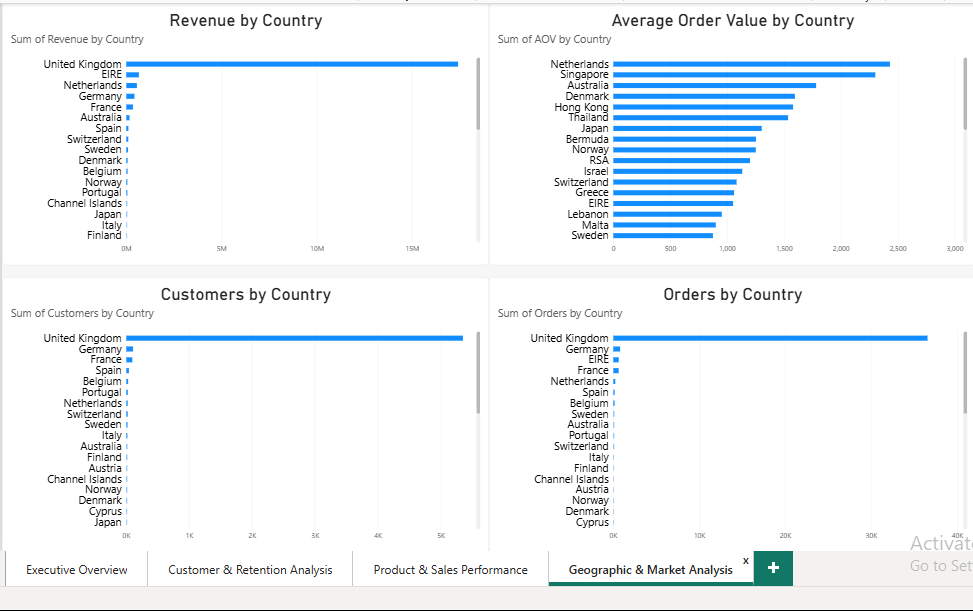

Layout of this report page (visuals, bound fields, positions):
{"tool":"powerbi","page":{"name":"Geographic & Market Analysis","canvas":[1920,1080],"ordinal":3},"visuals":[{"type":"clusteredBarChart","title":"Revenue by Country","fields":{"Category":["country_analysis.Country"],"Y":["Sum(country_analysis.Revenue)"]},"box":[0,0,960,516.5],"z":0},{"type":"clusteredBarChart","title":"Customers by Country","fields":{"Category":["country_analysis.Country"],"Y":["Sum(country_analysis.Customers)"]},"box":[0,539.2,960,541.7],"z":1000},{"type":"clusteredBarChart","title":"Average Order Value by Country","fields":{"Category":["country_analysis.Country"],"Y":["Sum(country_analysis.AOV)"]},"box":[960,0,960,516.5],"z":2000},{"type":"clusteredBarChart","title":"Orders by Country","fields":{"Category":["country_analysis.Country"],"Y":["Sum(country_analysis.Orders)"]},"box":[960,539.2,960,541.7],"z":3000}]}

Visuals, with their boxes on the page's 1920x1080 design canvas (x1, y1, x2, y2). These are canvas units, not pixel positions in the 973x611 screenshot, which may show the page scaled, cropped or inside an application window:
"Revenue by Country" clusteredBarChart: (x1=0, y1=0, x2=960, y2=516)
"Customers by Country" clusteredBarChart: (x1=0, y1=539, x2=960, y2=1081)
"Average Order Value by Country" clusteredBarChart: (x1=960, y1=0, x2=1920, y2=516)
"Orders by Country" clusteredBarChart: (x1=960, y1=539, x2=1920, y2=1081)
